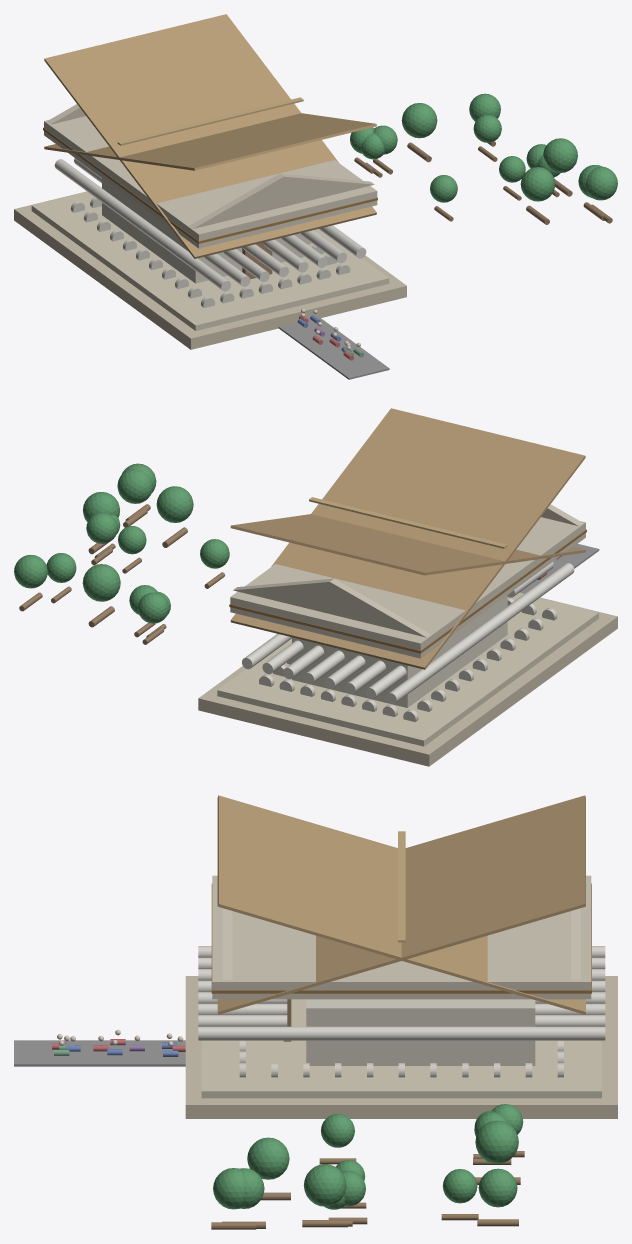
The picture shows the model from 3 angles, top to bottom: view 1: azimuth 30°, elevation 25°; view 2: azimuth 150°, elevation 25°; view 3: azimuth 270°, elevation 25°; orthographic projection. The views are drawn at different scales.
Visible parts, largest first — view 1: roof_plane_1, stylobate, entablature, base, roof_plane_2, pediment_front, naos, cobble_path, frieze_stripe, tree_10_crown, ridge, tree_7_crown (+13 smaller); view 2: roof_plane_2, stylobate, entablature, base, roof_plane_1, naos, pediment_back, frieze_stripe, tree_10_crown, ridge, tree_7_crown, tree_2_crown (+16 smaller); view 3: roof_plane_1, roof_plane_2, entablature, stylobate, naos, base, cobble_path, frieze_stripe, tree_10_crown, tree_12_crown, tree_7_crown, col_back_7_shaft (+21 smaller).
Boxes of the visible parts, bbox=[...] form: roof_plane_1: bbox=[44, 14, 376, 258]; stylobate: bbox=[31, 192, 389, 330]; entablature: bbox=[44, 116, 377, 248]; base: bbox=[14, 187, 406, 349]; roof_plane_2: bbox=[44, 113, 376, 170]; pediment_front: bbox=[189, 173, 374, 228]; naos: bbox=[102, 178, 303, 283]; cobble_path: bbox=[278, 317, 389, 379]; frieze_stripe: bbox=[43, 127, 377, 243]; tree_10_crown: bbox=[401, 103, 437, 138]; ridge: bbox=[117, 97, 303, 145]; tree_7_crown: bbox=[520, 167, 555, 201]; roof_plane_2: bbox=[230, 408, 585, 669]; stylobate: bbox=[217, 593, 598, 746]; entablature: bbox=[230, 517, 585, 658]; base: bbox=[198, 592, 617, 766]; roof_plane_1: bbox=[230, 514, 585, 575]; naos: bbox=[292, 595, 507, 707]; pediment_back: bbox=[233, 578, 430, 637]; frieze_stripe: bbox=[229, 529, 586, 653]; tree_10_crown: bbox=[82, 564, 120, 601]; ridge: bbox=[309, 497, 507, 548]; tree_7_crown: bbox=[156, 486, 193, 522]; tree_2_crown: bbox=[117, 469, 152, 503]; roof_plane_1: bbox=[217, 795, 585, 1014]; roof_plane_2: bbox=[217, 795, 585, 1014]; entablature: bbox=[212, 875, 591, 999]; stylobate: bbox=[201, 999, 601, 1098]; naos: bbox=[306, 999, 535, 1065]; base: bbox=[185, 976, 617, 1118]; cobble_path: bbox=[14, 1040, 185, 1066]; frieze_stripe: bbox=[211, 883, 591, 993]; tree_10_crown: bbox=[475, 1120, 518, 1163]; tree_12_crown: bbox=[303, 1164, 346, 1206]; tree_7_crown: bbox=[247, 1137, 289, 1179]; col_back_7_shaft: bbox=[516, 1026, 605, 1040].
Size of what is drawn, in the model's own units: 49.34 by 17.78 by 47.5.
